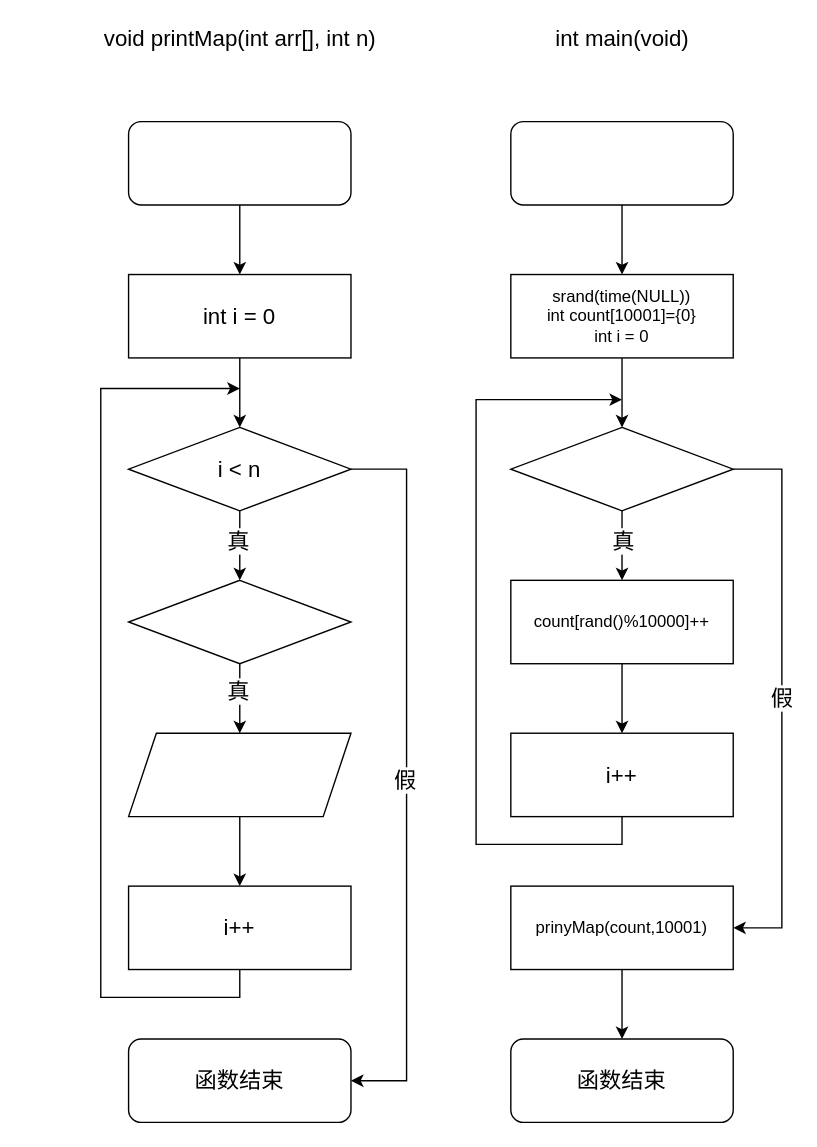
The diagram is 817 pixels wide and 1147 high, and some of its shapes have lost their labels. Here are the shapes that lost their labels. From the top down, the centre of each, then its label:
At [239,162]: "函数开始".
At [621,162]: "程序开始".
At [621,468]: "i < 1000".
At [239,621]: "arr[i] != 0".
At [239,774]: "(i, arr[i])".
